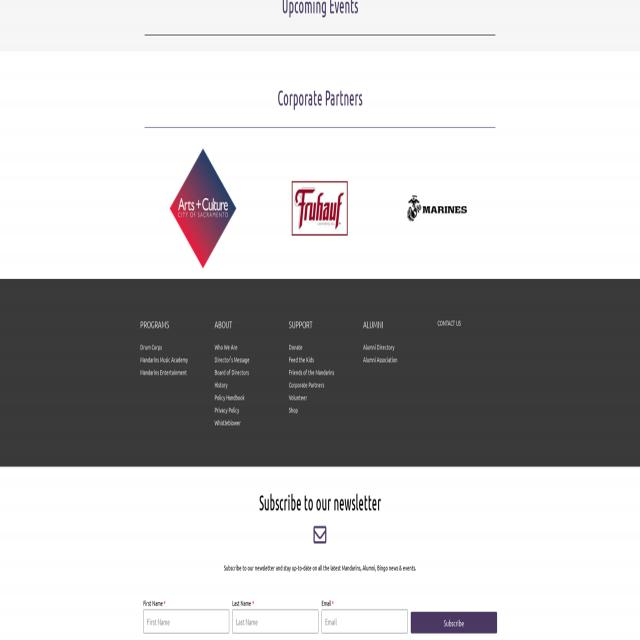button: (163, 143, 243, 271), (393, 176, 475, 238), (292, 181, 348, 237), (411, 613, 497, 632)
field: (232, 608, 318, 633), (322, 610, 408, 634), (143, 610, 230, 632)
